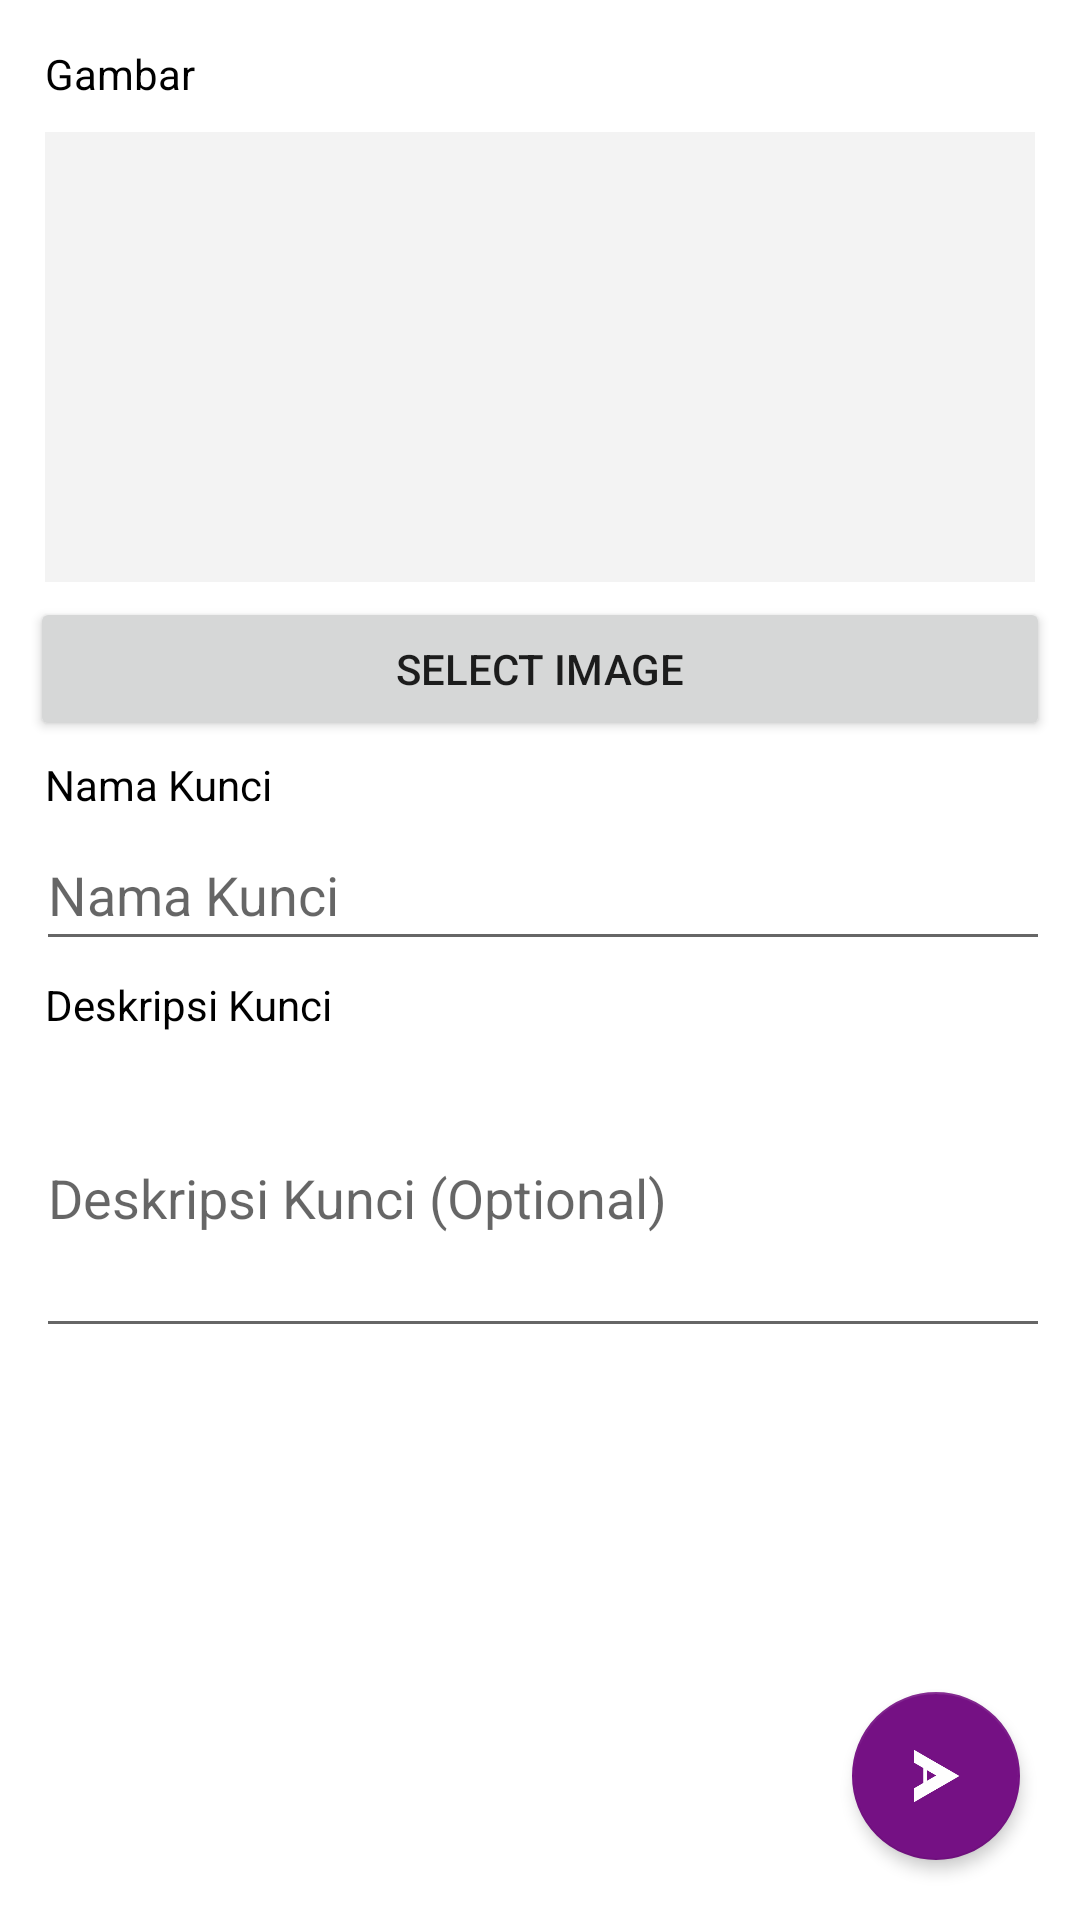

Named icons in this screenshot (1080x1920) and their bounding boxes, (x1, y1, x2, y2):
kirim putih: (852, 1692, 1020, 1860)
